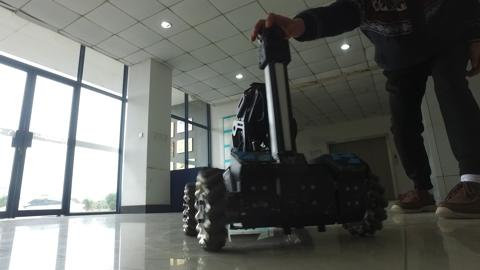chariot: (163, 24, 397, 255)
